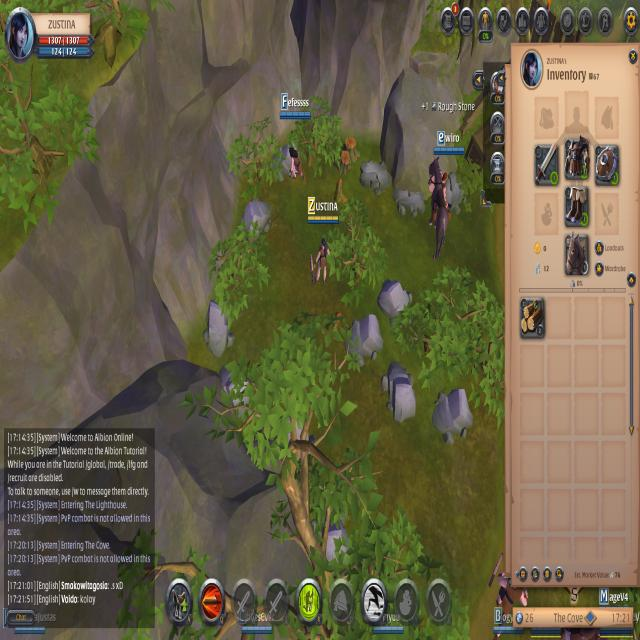broken stone: (436, 156, 472, 224), (357, 142, 394, 202), (395, 173, 425, 224)
stone: (234, 182, 272, 254), (258, 132, 303, 188), (200, 295, 238, 360), (433, 380, 471, 442), (387, 356, 419, 427), (375, 271, 413, 330), (348, 308, 381, 372)
